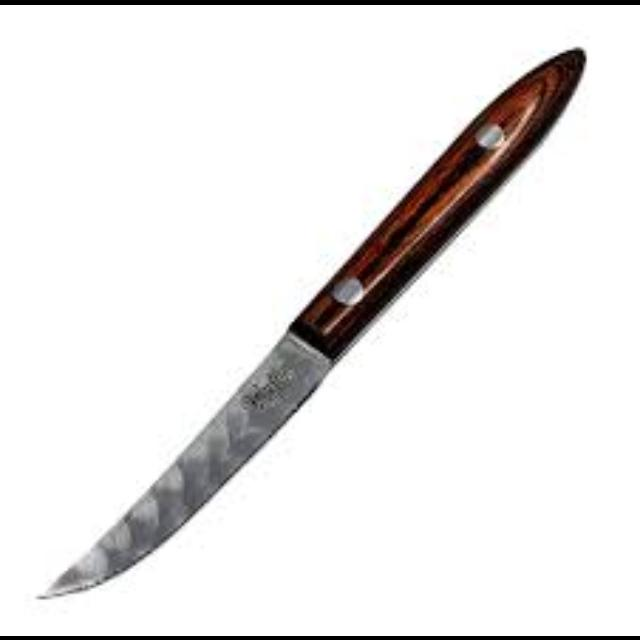Knife: (34, 44, 586, 598)
